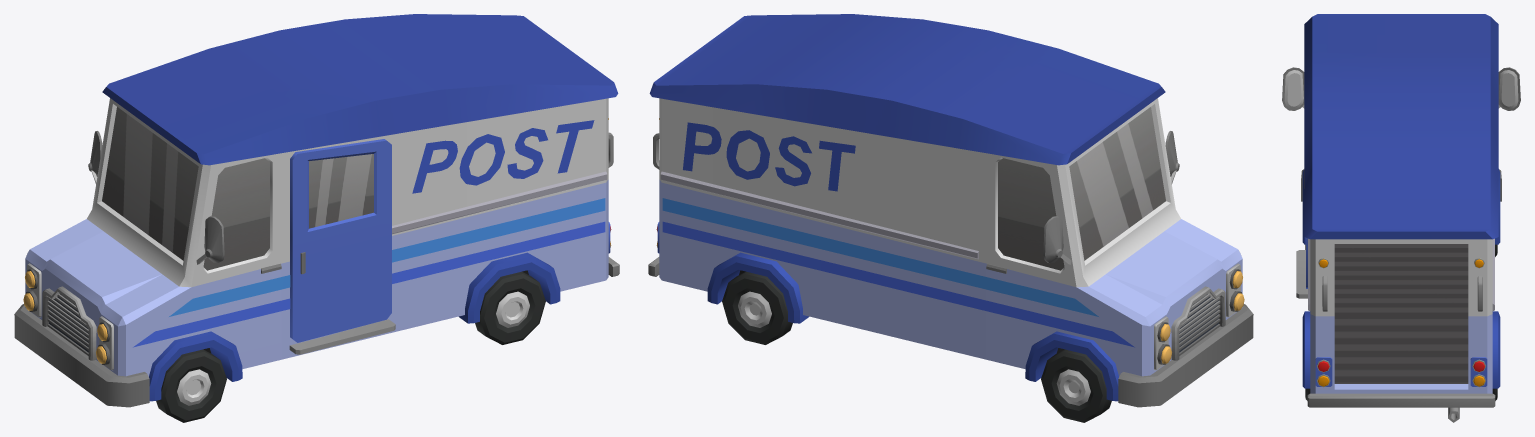
The model's file is PostCar_2_A.fbx.
The picture shows the model from 3 angles, left to right: view 1: azimuth 30°, elevation 25°; view 2: azimuth 150°, elevation 25°; view 3: azimuth 270°, elevation 25°; orthographic projection. The views are drawn at different scales.
Visible parts, largest first — view 1: PostCar_2_A, FL, RL; view 2: PostCar_2_A, FR, RR; view 3: PostCar_2_A.
Part boxes in pixels (bbox=[...]): PostCar_2_A: bbox=[14, 14, 619, 407]; FL: bbox=[156, 349, 226, 422]; RL: bbox=[475, 271, 545, 344]; PostCar_2_A: bbox=[648, 14, 1253, 407]; FR: bbox=[1041, 349, 1111, 422]; RR: bbox=[722, 271, 792, 344]; PostCar_2_A: bbox=[1282, 14, 1520, 422].
Bounding box in the file's own units: 414 × 211 × 180.
